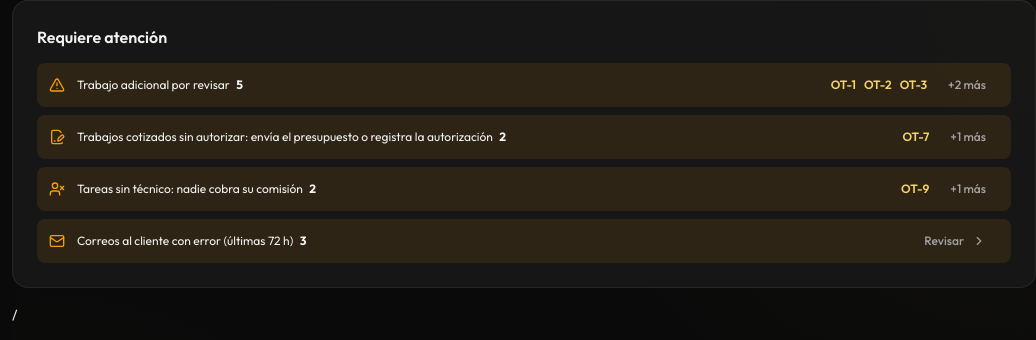
Scenario: AttentionCard › cuenta lo cotizado sin autorizar y abre Trabajos
Check: the text "Trabajos cotizados sin autorizar" shows "2", box [499,129,506,144]
Click the button "OT-7": (916, 137) [902,127,929,146]
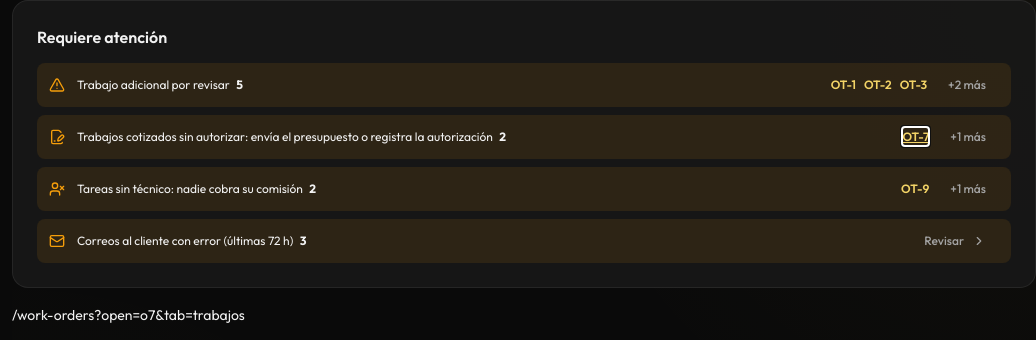
Check: the text with test id "where" reads "/work-orders?open=o7&tab=trabajos", box [12,306,245,324]
